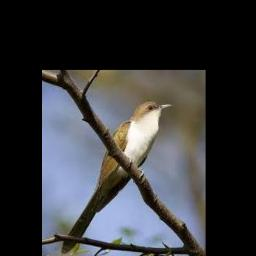Cuckoo: (61, 102, 173, 253)
